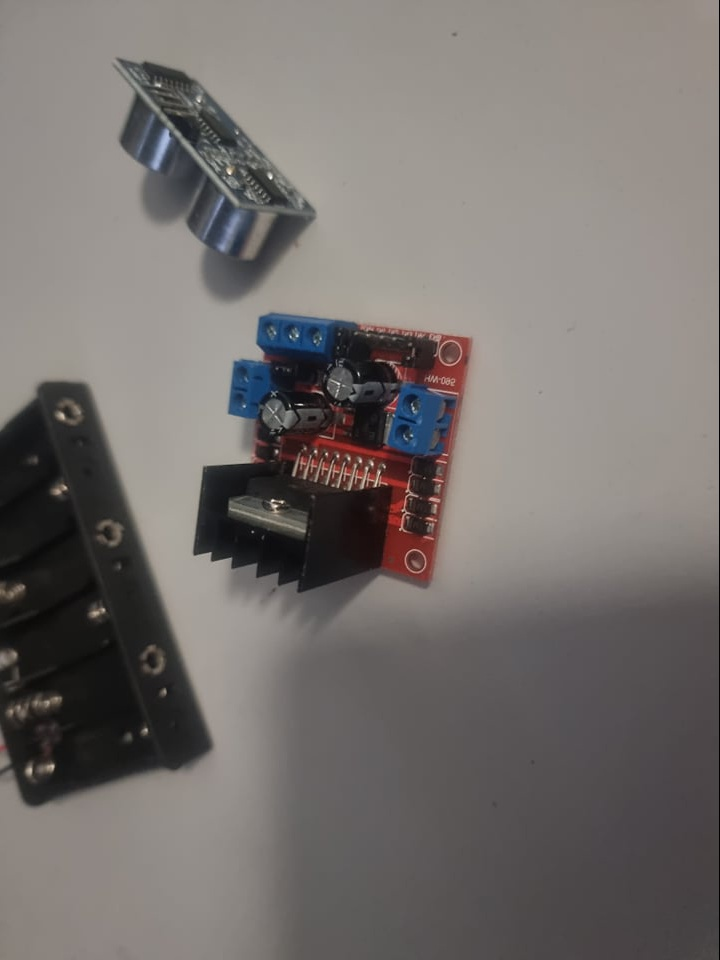BATTERY BOX: (4, 374, 219, 810)
MOTOR: (192, 312, 474, 593)
SENSOR: (113, 60, 319, 259)
